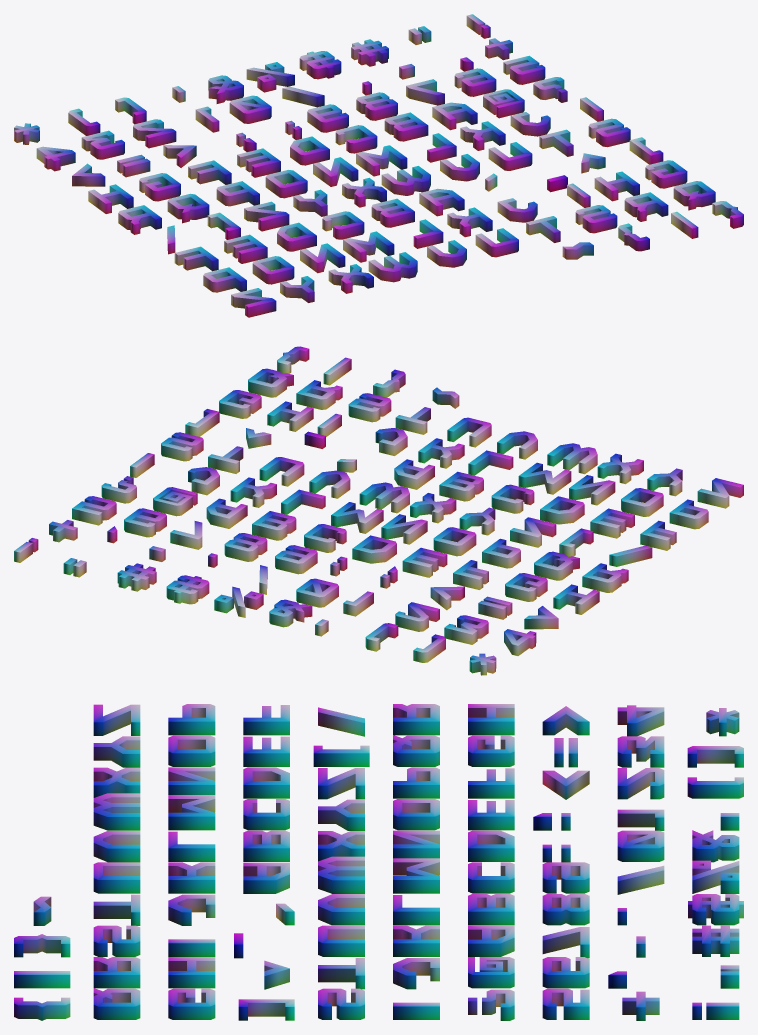
Rendered from Furore-Tatting.fbx.
The picture shows the model from 3 angles, top to bottom: view 1: azimuth 30°, elevation 25°; view 2: azimuth 150°, elevation 25°; view 3: azimuth 270°, elevation 25°; orthographic projection. The views are drawn at different scales.
Visible parts, largest first — view 1: W, w, B, %, $, b, m, M, 0, g, O, o (+63 smaller); view 2: w, W, $, q, Q, b, B, @, m, 5, M, O (+63 smaller); view 3: w, m, W, M, $, h, u, r, 0, o, H, k (+73 smaller).
Part boxes in pixels (x1,y1,x2,y2): W: [381, 166, 430, 195]; w: [368, 252, 417, 282]; B: [384, 112, 428, 141]; %: [246, 62, 294, 92]; $: [299, 51, 341, 79]; b: [371, 198, 414, 227]; m: [343, 231, 394, 262]; M: [356, 145, 407, 176]; 0: [229, 95, 271, 123]; g: [645, 160, 687, 188]; O: [265, 170, 307, 198]; o: [252, 256, 294, 284]; w: [547, 443, 597, 474]; W: [359, 482, 409, 513]; $: [166, 575, 209, 604]; q: [248, 368, 293, 397]; Q: [534, 551, 579, 580]; b: [439, 471, 483, 501]; B: [252, 511, 296, 540]; @: [153, 487, 197, 516]; m: [518, 462, 571, 494]; 5: [72, 496, 116, 525]; M: [331, 502, 383, 533]; O: [433, 527, 476, 556]; w: [93, 793, 140, 830]; m: [168, 795, 215, 830]; W: [318, 856, 364, 893]; M: [393, 858, 439, 893]; $: [688, 894, 743, 925]; h: [168, 957, 215, 988]; u: [93, 862, 140, 893]; r: [93, 957, 140, 988]; 0: [617, 830, 664, 861]; o: [168, 735, 215, 766]; H: [468, 704, 514, 735]; k: [168, 862, 215, 893].
Size of the model in its own units: 959 by 20 by 975.
